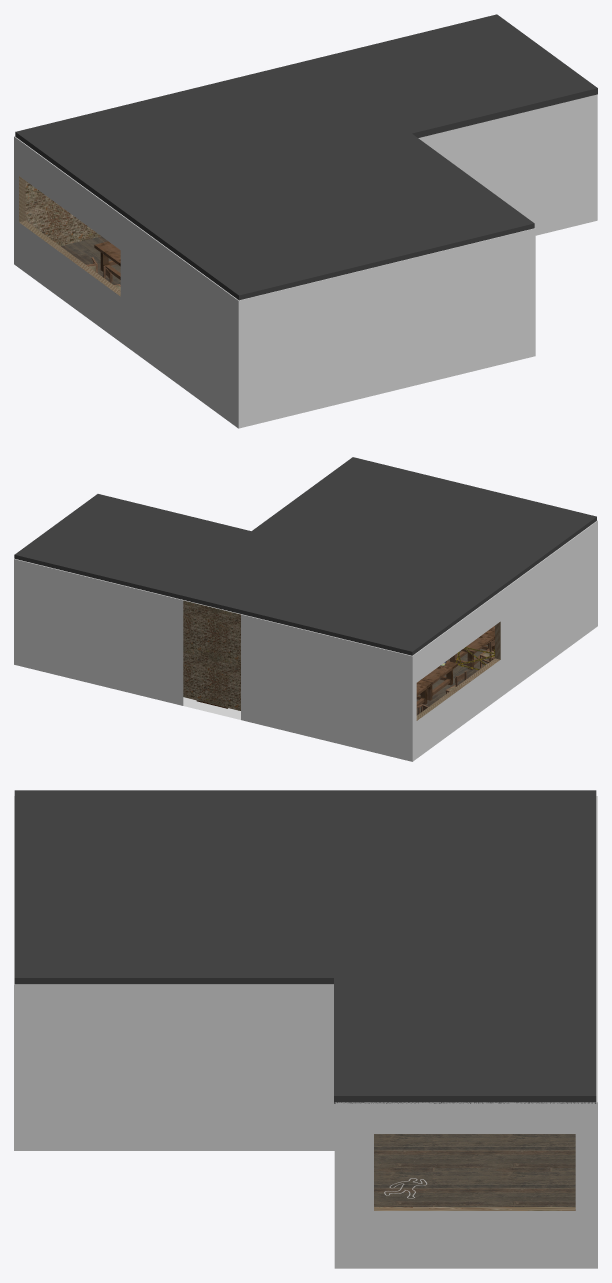
File: room-comp-max.glb
3 renders of one model, top to bottom at view 1: azimuth 30°, elevation 25°; view 2: azimuth 150°, elevation 25°; view 3: azimuth 270°, elevation 25°, orthographic. The views are drawn at different scales.
Parts seen in each view (by area): view 1: Cube.012, Cube.018; view 2: Cube.012, Cube.018; view 3: Cube.012, Cube.018.
Part boxes in pixels (bbox=[...]): Cube.012: bbox=[14, 14, 597, 428]; Cube.018: bbox=[19, 176, 120, 296]; Cube.012: bbox=[14, 457, 597, 761]; Cube.018: bbox=[183, 600, 500, 720]; Cube.012: bbox=[14, 790, 597, 1268]; Cube.018: bbox=[374, 1134, 575, 1210].
Bounding box in the file's own units: 12.83 × 3.37 × 10.34.
30 materials, 30 textured.
